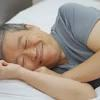Persons: (0, 15, 64, 81)
